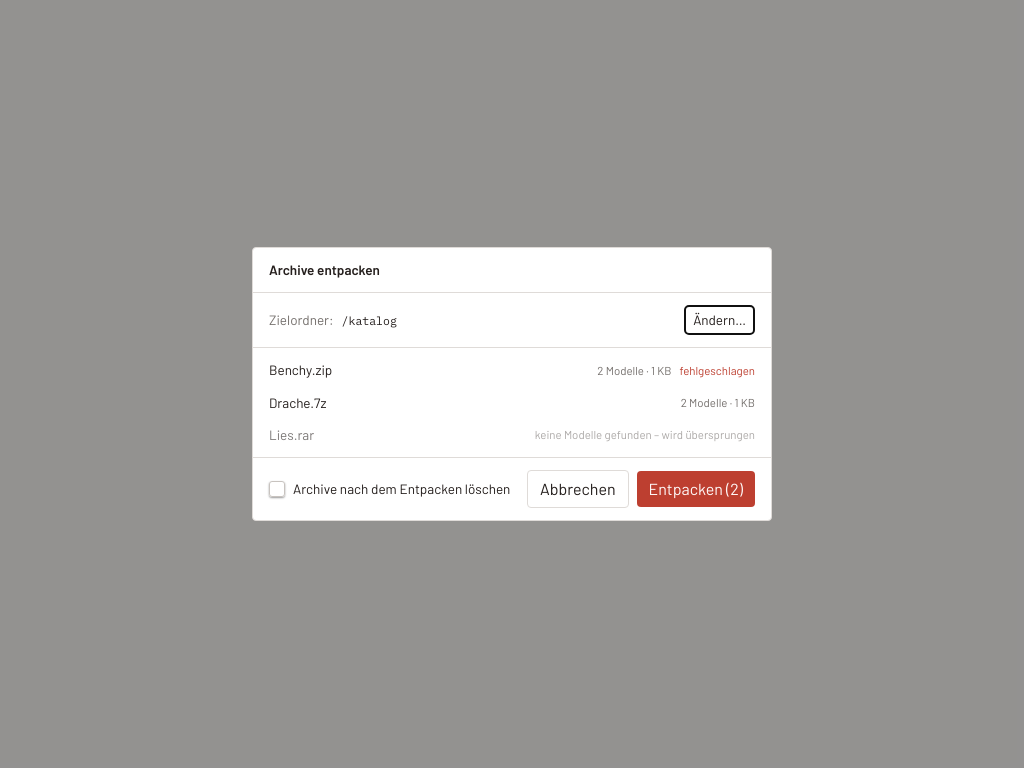
it: ArchiveImportDialog › clears stale progress labels when extraction is started again after an error
The image size is (1024, 768).
expect the text "fehlgeschlagen" is shown: met, box [680, 362, 755, 379]
Click the button "Entpacken (2)" at (696,489), box [636, 471, 755, 507]
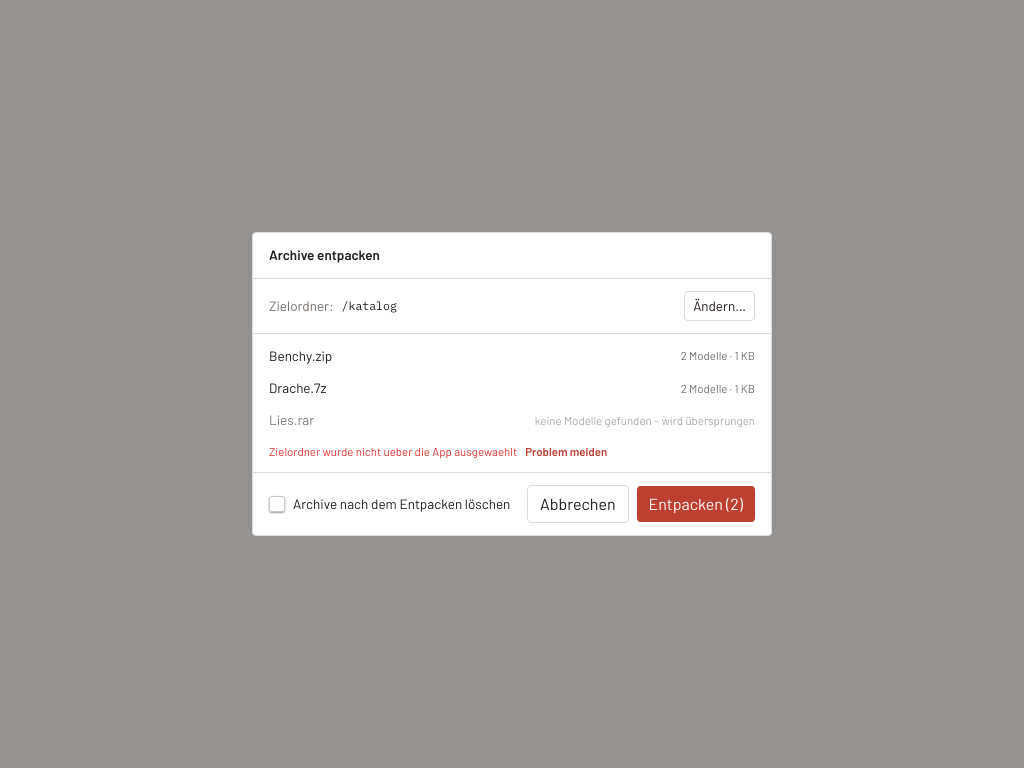
expect the button "Entpacken (2)" is enabled: met, box [636, 486, 755, 522]
expect the text "Zielordner wurde nicht ueber die App ausgewaehlt" is shown: met, box [269, 444, 517, 458]
expect the text "fehlgeschlagen" is gone: met
